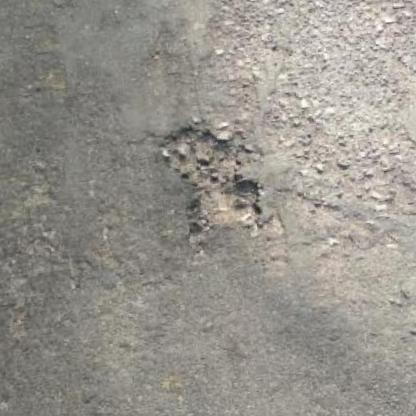pothole: (162, 111, 274, 238)
